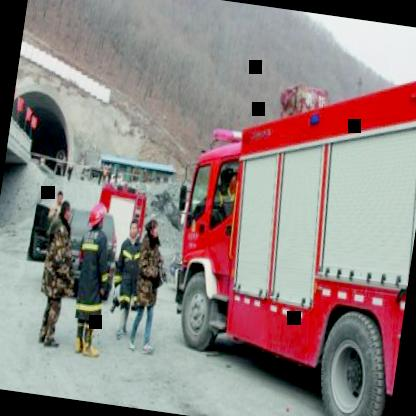head: (55, 199, 74, 223), (143, 218, 161, 242), (125, 218, 140, 240), (54, 188, 65, 205)
helmet: (84, 199, 107, 235)
